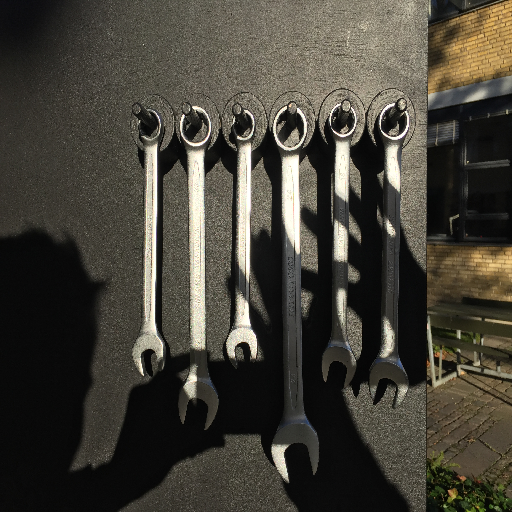bottom: (269, 419, 322, 484), (367, 350, 410, 411), (176, 373, 221, 431), (319, 341, 358, 392), (130, 330, 168, 378), (224, 321, 259, 371)
top: (269, 102, 310, 154), (178, 105, 214, 151), (375, 101, 412, 144), (327, 102, 358, 141), (135, 107, 165, 145), (231, 107, 257, 144)
